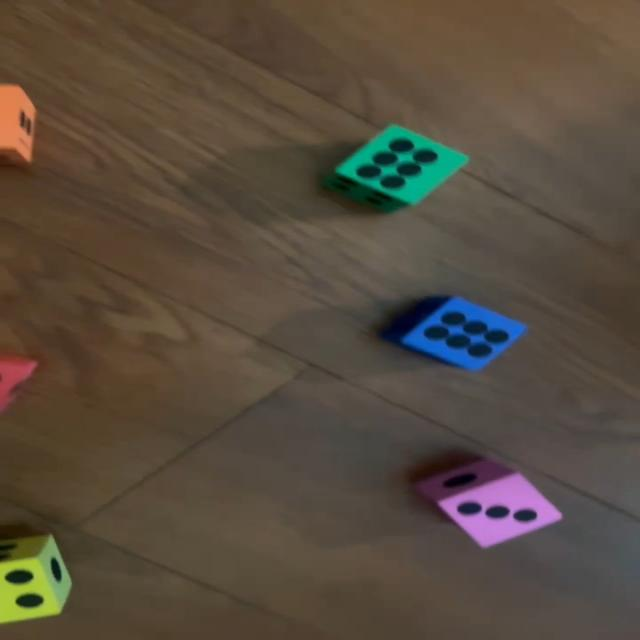blue_block: (382, 295, 528, 370)
red_block: (0, 357, 40, 409)
